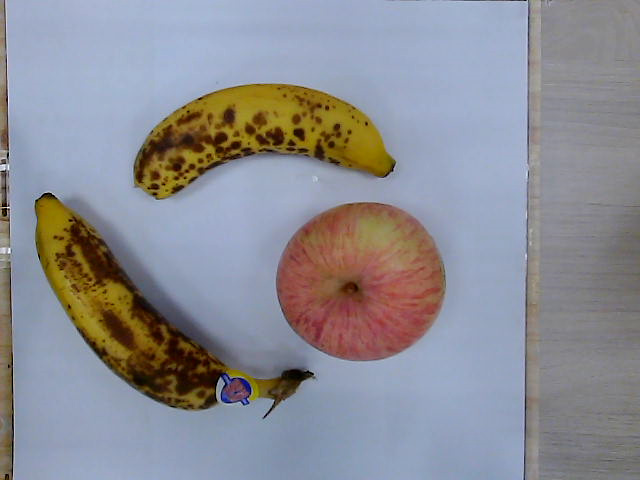fresh_apple: (276, 202, 446, 361)
rotten_banana: (35, 192, 311, 412), (135, 84, 391, 196)
